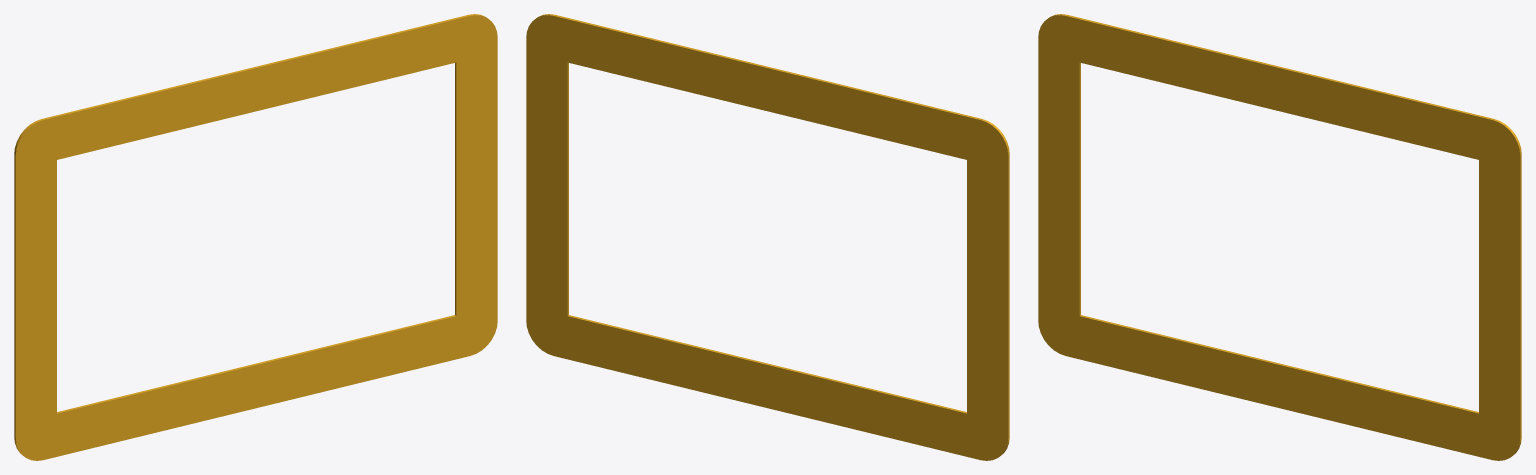
File: cell_separator.glb
The picture shows the model from 3 angles, left to right: view 1: azimuth 30°, elevation 25°; view 2: azimuth 150°, elevation 25°; view 3: azimuth 330°, elevation 25°; orthographic projection.
Visible parts, largest first — view 1: cell sepator for Tafel v2; view 2: cell sepator for Tafel v2; view 3: cell sepator for Tafel v2.
Boxes of the visible parts, x1,y1,x2,y2 form: cell sepator for Tafel v2: (14, 14, 497, 460); cell sepator for Tafel v2: (526, 14, 1009, 460); cell sepator for Tafel v2: (1038, 14, 1521, 460).
Size of the model in its own units: 0.175 by 0.118 by 0.001.
